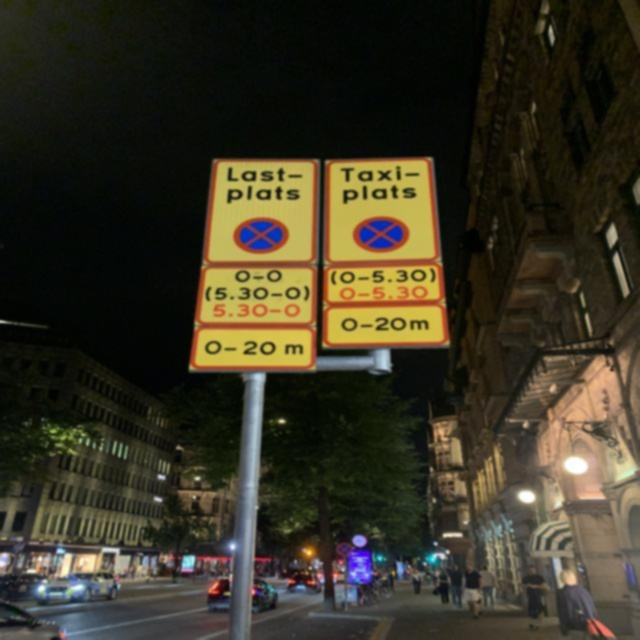lastplats: (198, 154, 321, 266)
